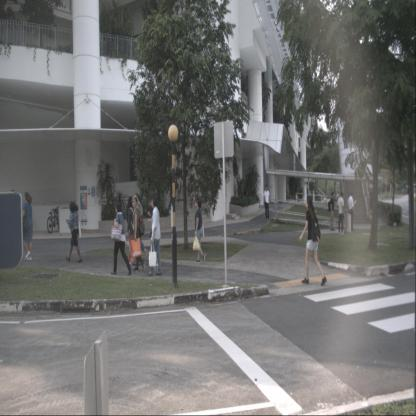human-pedestrian-adult: (299, 195, 327, 286), (110, 203, 132, 275), (147, 196, 162, 276), (132, 195, 146, 272), (66, 202, 82, 263), (146, 199, 160, 266), (192, 198, 206, 264), (20, 192, 33, 262), (133, 193, 147, 256), (126, 196, 137, 265), (336, 193, 344, 235), (348, 193, 355, 232), (327, 192, 334, 230), (264, 185, 270, 220)
vehicle-bicycle: (47, 206, 60, 234)
